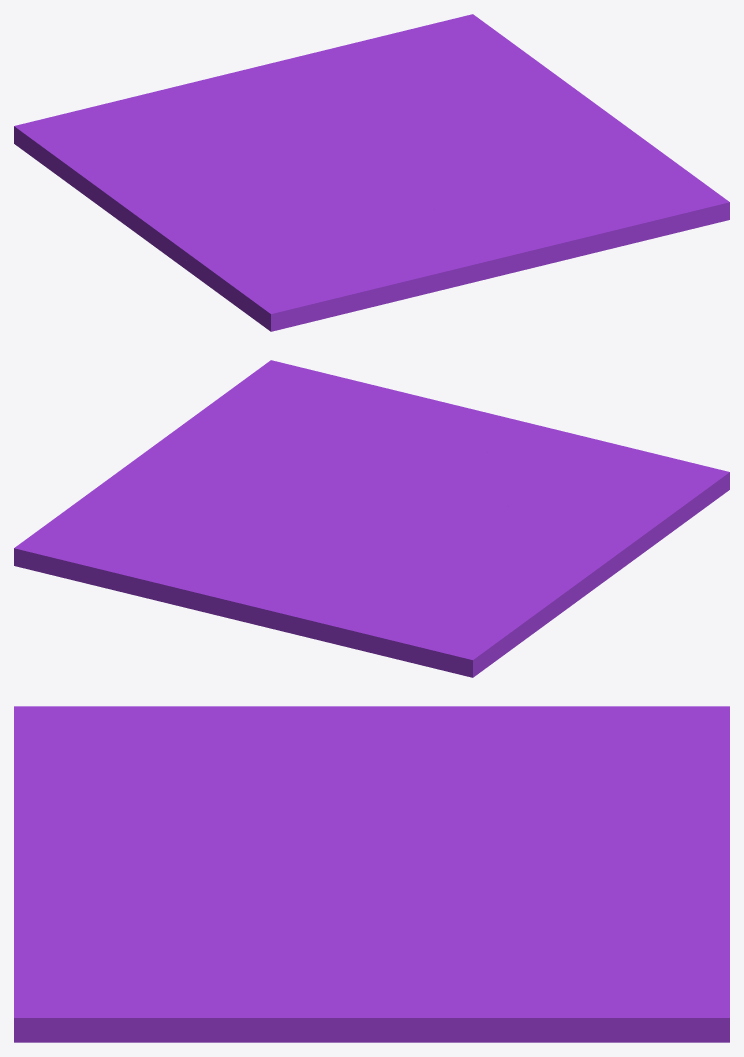
File: Platform_52_chunks.fbx
3 renders of one model, top to bottom at view 1: azimuth 30°, elevation 25°; view 2: azimuth 150°, elevation 25°; view 3: azimuth 270°, elevation 25°, orthographic. The views are drawn at different scales.
Visible parts, largest first — view 1: Platform_52_0, Platform_52_1, Platform_52_2, Platform_52_3, Platform_52_6, Platform_52_5, Platform_52_12, Platform_52_7, Platform_52_4, Platform_52_15, Platform_52_14; view 2: Platform_52_0, Platform_52_1, Platform_52_2, Platform_52_6, Platform_52_3, Platform_52_12, Platform_52_5, Platform_52_7, Platform_52_15, Platform_52_4, Platform_52_14, Platform_52_10 (+2 smaller); view 3: Platform_52_0, Platform_52_1, Platform_52_2, Platform_52_3, Platform_52_6, Platform_52_5, Platform_52_12, Platform_52_7, Platform_52_4, Platform_52_15, Platform_52_14.
Part boxes in pixels (box(x1,y1,x2,y2)): Platform_52_0: box(383, 97, 729, 278); Platform_52_1: box(357, 14, 585, 168); Platform_52_2: box(184, 215, 429, 331); Platform_52_3: box(85, 166, 314, 272); Platform_52_6: box(14, 105, 258, 199); Platform_52_5: box(298, 162, 472, 239); Platform_52_12: box(98, 78, 289, 135); Platform_52_7: box(247, 87, 365, 168); Platform_52_4: box(360, 226, 496, 303); Platform_52_15: box(221, 39, 371, 91); Platform_52_14: box(277, 52, 369, 117); Platform_52_0: box(127, 360, 503, 503); Platform_52_1: box(14, 465, 376, 582); Platform_52_2: box(505, 433, 729, 548); Platform_52_6: box(376, 549, 549, 677); Platform_52_3: box(413, 505, 648, 620); Platform_52_12: box(270, 563, 389, 652); Platform_52_5: box(375, 435, 505, 535); Platform_52_7: box(218, 516, 436, 569); Platform_52_15: box(101, 567, 273, 609); Platform_52_4: box(477, 417, 570, 483); Platform_52_14: box(144, 551, 318, 581); Platform_52_10: box(87, 578, 222, 614); Platform_52_0: box(14, 860, 454, 1042); Platform_52_1: box(352, 855, 729, 1042); Platform_52_2: box(14, 706, 265, 814); Platform_52_3: box(256, 706, 530, 822); Platform_52_6: box(439, 706, 729, 818); Platform_52_5: box(85, 797, 417, 864); Platform_52_12: box(540, 763, 729, 864); Platform_52_7: box(387, 801, 596, 912); Platform_52_4: box(14, 812, 202, 860); Platform_52_15: box(646, 844, 729, 948); Platform_52_14: box(560, 852, 692, 938).
Size of the model in its own units: 810 by 29.87 by 786.
